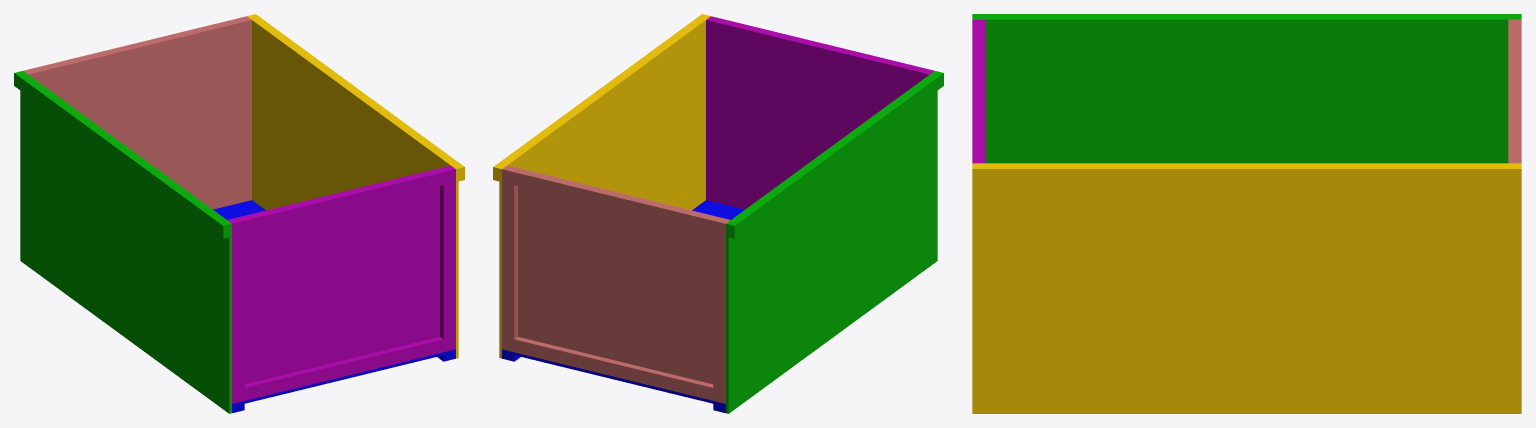
Rendered from result.glb.
3 renders of one model, left to right at view 1: azimuth 30°, elevation 25°; view 2: azimuth 150°, elevation 25°; view 3: azimuth 270°, elevation 25°, orthographic. The views are drawn at different scales.
Visible parts, largest first — view 1: f33e1ff6-ef4b-41e9-9f4b-4ff0cc53d126__Box_6, 436ff291-4abb-4b48-aee5-1cae5dbb06d4__Box_3, fb983748-db0e-4bcd-955b-8bae9c138162__undefined, 5f177abc-a030-4aad-9faf-e4533817816b__undefined, d34fee3c-e202-4c05-a265-187fe816c820__Box_7, ab293bcb-3d85-4881-aae7-4a3245bf94b1__undefined, 36bb86fb-b4e2-40af-aef1-d006d0744ccb__Box_5, 81d73643-0081-4707-93fd-d3259ce162a8__undefined, 2a7da7c3-9d2a-406e-9c17-07d7d77dc833__Box_4, 27418a88-01da-47d6-9a2a-6376c8829844__undefined, 48cd4d16-0e92-4ccd-b3a9-cfb49bf9c5cc__Box, f021a29a-b933-4e48-909e-02071de04d5a__undefined; view 2: f33e1ff6-ef4b-41e9-9f4b-4ff0cc53d126__Box_6, fb983748-db0e-4bcd-955b-8bae9c138162__undefined, 436ff291-4abb-4b48-aee5-1cae5dbb06d4__Box_3, 5f177abc-a030-4aad-9faf-e4533817816b__undefined, d34fee3c-e202-4c05-a265-187fe816c820__Box_7, f021a29a-b933-4e48-909e-02071de04d5a__undefined, 6d52b80b-396b-4e2d-aa8d-52a9040ec71e__undefined, 79563ab9-f863-4966-aefd-fcdd3aa90e5a__undefined, 4a26e9e4-36b0-4ea7-afb0-f60a67fcbdf8__undefined, 27418a88-01da-47d6-9a2a-6376c8829844__undefined, 48cd4d16-0e92-4ccd-b3a9-cfb49bf9c5cc__Box, ab293bcb-3d85-4881-aae7-4a3245bf94b1__undefined; view 3: 5f177abc-a030-4aad-9faf-e4533817816b__undefined, f33e1ff6-ef4b-41e9-9f4b-4ff0cc53d126__Box_6, 27418a88-01da-47d6-9a2a-6376c8829844__undefined, d34fee3c-e202-4c05-a265-187fe816c820__Box_7, ab293bcb-3d85-4881-aae7-4a3245bf94b1__undefined, f021a29a-b933-4e48-909e-02071de04d5a__undefined, 436ff291-4abb-4b48-aee5-1cae5dbb06d4__Box_3, fb983748-db0e-4bcd-955b-8bae9c138162__undefined.
Part boxes in pixels (x1,y1,x2,y2): f33e1ff6-ef4b-41e9-9f4b-4ff0cc53d126__Box_6: (20, 71, 231, 413); 436ff291-4abb-4b48-aee5-1cae5dbb06d4__Box_3: (227, 165, 451, 384); fb983748-db0e-4bcd-955b-8bae9c138162__undefined: (27, 19, 251, 209); 5f177abc-a030-4aad-9faf-e4533817816b__undefined: (247, 15, 458, 358); d34fee3c-e202-4c05-a265-187fe816c820__Box_7: (14, 71, 229, 238); ab293bcb-3d85-4881-aae7-4a3245bf94b1__undefined: (241, 169, 443, 233); 36bb86fb-b4e2-40af-aef1-d006d0744ccb__Box_5: (244, 337, 443, 400); 81d73643-0081-4707-93fd-d3259ce162a8__undefined: (440, 166, 455, 351); 2a7da7c3-9d2a-406e-9c17-07d7d77dc833__Box_4: (229, 218, 244, 403); 27418a88-01da-47d6-9a2a-6376c8829844__undefined: (250, 14, 464, 181); 48cd4d16-0e92-4ccd-b3a9-cfb49bf9c5cc__Box: (213, 200, 455, 406); f021a29a-b933-4e48-909e-02071de04d5a__undefined: (36, 19, 237, 70); f33e1ff6-ef4b-41e9-9f4b-4ff0cc53d126__Box_6: (726, 71, 937, 413); fb983748-db0e-4bcd-955b-8bae9c138162__undefined: (506, 165, 730, 384); 436ff291-4abb-4b48-aee5-1cae5dbb06d4__Box_3: (706, 19, 930, 209); 5f177abc-a030-4aad-9faf-e4533817816b__undefined: (499, 15, 710, 358); d34fee3c-e202-4c05-a265-187fe816c820__Box_7: (728, 71, 943, 238); f021a29a-b933-4e48-909e-02071de04d5a__undefined: (514, 169, 716, 233); 6d52b80b-396b-4e2d-aa8d-52a9040ec71e__undefined: (514, 337, 713, 400); 79563ab9-f863-4966-aefd-fcdd3aa90e5a__undefined: (502, 166, 517, 351); 4a26e9e4-36b0-4ea7-afb0-f60a67fcbdf8__undefined: (713, 218, 728, 403); 27418a88-01da-47d6-9a2a-6376c8829844__undefined: (493, 14, 707, 181); 48cd4d16-0e92-4ccd-b3a9-cfb49bf9c5cc__Box: (502, 200, 744, 406); ab293bcb-3d85-4881-aae7-4a3245bf94b1__undefined: (720, 19, 921, 70); 5f177abc-a030-4aad-9faf-e4533817816b__undefined: (972, 163, 1521, 413); f33e1ff6-ef4b-41e9-9f4b-4ff0cc53d126__Box_6: (972, 18, 1521, 163); 27418a88-01da-47d6-9a2a-6376c8829844__undefined: (972, 165, 1521, 185); d34fee3c-e202-4c05-a265-187fe816c820__Box_7: (972, 14, 1521, 17); ab293bcb-3d85-4881-aae7-4a3245bf94b1__undefined: (972, 27, 981, 155); f021a29a-b933-4e48-909e-02071de04d5a__undefined: (1512, 27, 1521, 155); 436ff291-4abb-4b48-aee5-1cae5dbb06d4__Box_3: (981, 19, 985, 163); fb983748-db0e-4bcd-955b-8bae9c138162__undefined: (1508, 19, 1512, 163).
Bounding box in the file's own units: 702 × 526 × 1052.
